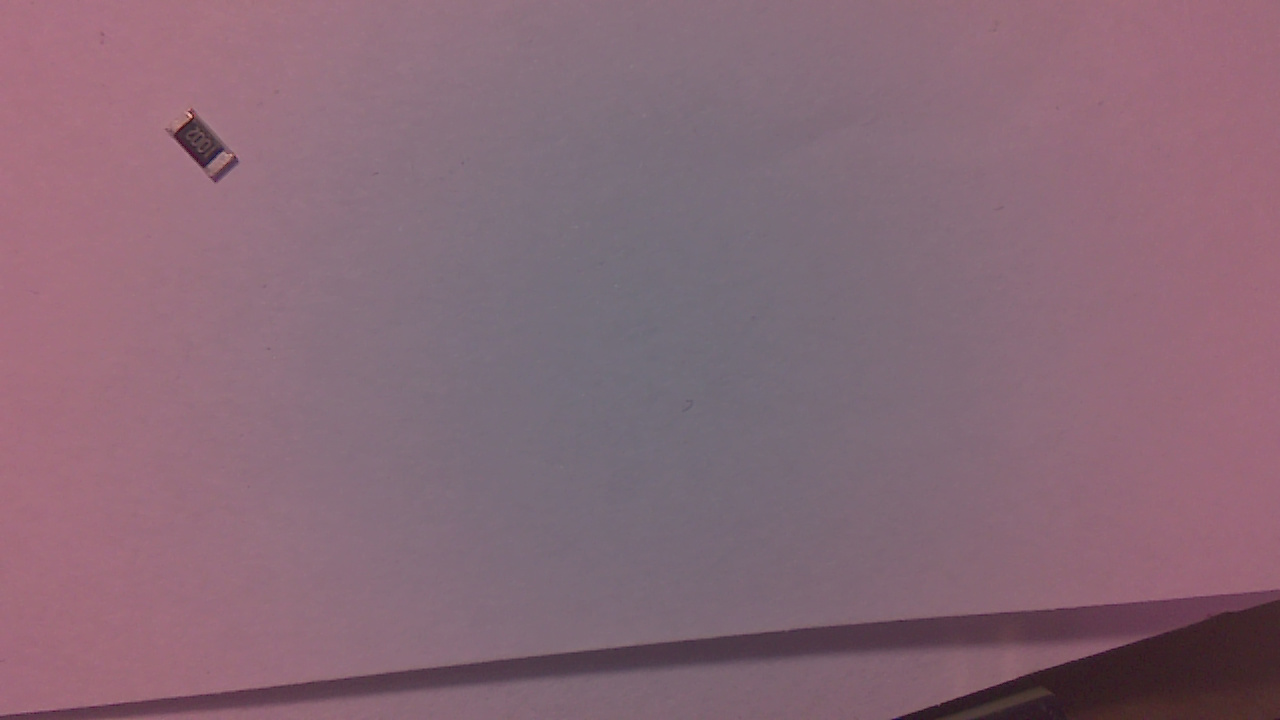Resistor: (169, 111, 244, 186)
